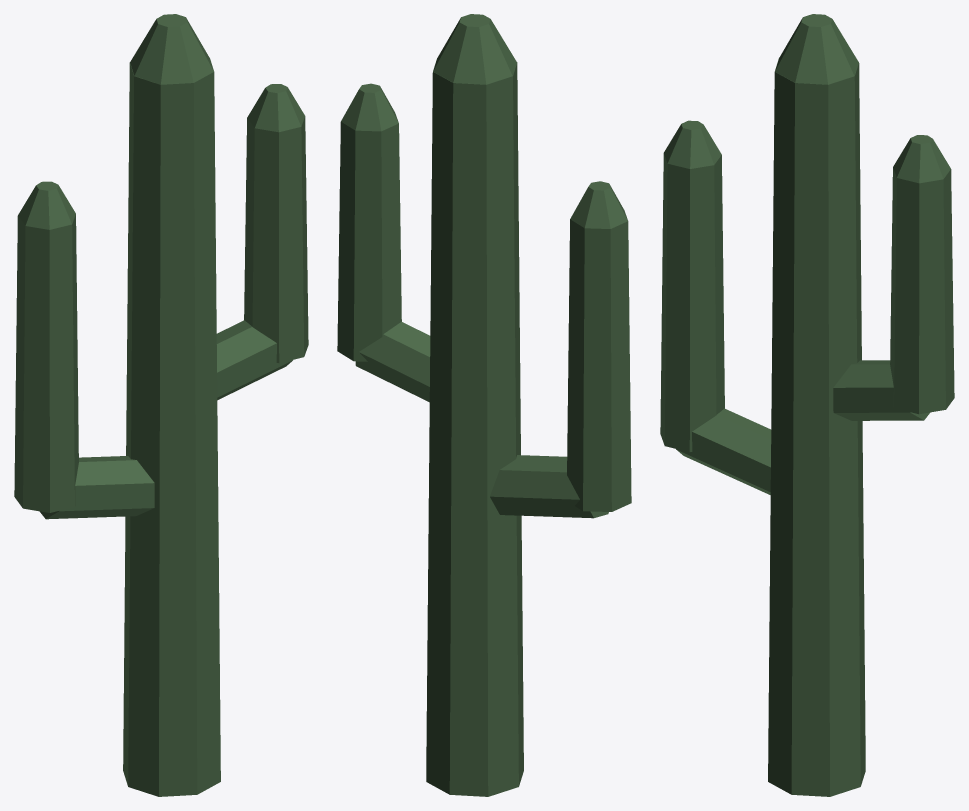
The model's file is saguaro.glb.
The picture shows the model from 3 angles, left to right: view 1: azimuth 30°, elevation 25°; view 2: azimuth 150°, elevation 25°; view 3: azimuth 330°, elevation 25°; orthographic projection.
Visible parts, largest first — view 1: saguaro; view 2: saguaro; view 3: saguaro.
Boxes of the visible parts, left/top/right/bottom form: saguaro: left=14, top=14, right=308, bottom=796; saguaro: left=337, top=14, right=631, bottom=796; saguaro: left=660, top=14, right=954, bottom=796.
Size of the model in its own units: 2.87 by 7.24 by 0.88.
